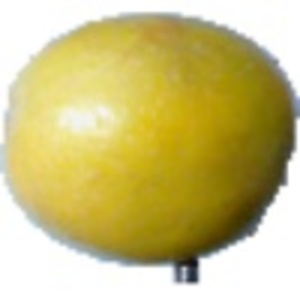maracujá: (1, 4, 300, 284)
